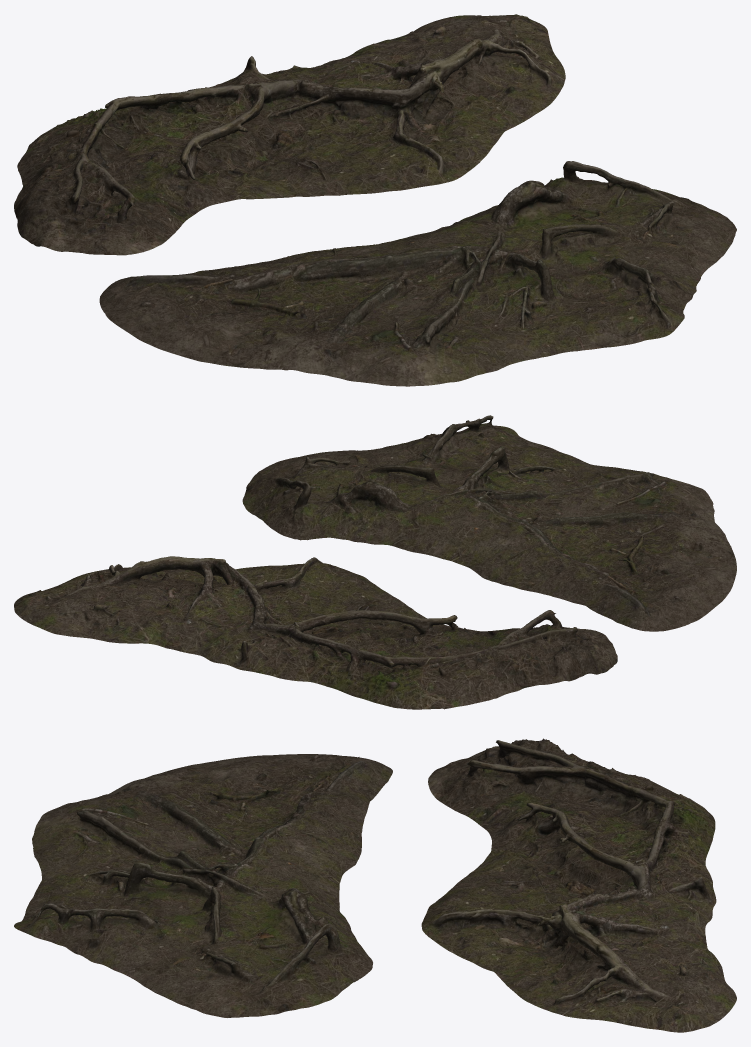
The model's file is pine_roots.gltf.
The picture shows the model from 3 angles, top to bottom: view 1: azimuth 30°, elevation 25°; view 2: azimuth 150°, elevation 25°; view 3: azimuth 270°, elevation 25°; orthographic projection. The views are drawn at different scales.
Parts seen in each view (by area): view 1: pine_roots_b, pine_roots_a; view 2: pine_roots_b, pine_roots_a; view 3: pine_roots_b, pine_roots_a.
Part boxes in pixels (left/top/right/bottom): pine_roots_b: left=99, top=161, right=736, bottom=386; pine_roots_a: left=14, top=14, right=565, bottom=255; pine_roots_b: left=242, top=415, right=736, bottom=631; pine_roots_a: left=14, top=556, right=617, bottom=709; pine_roots_b: left=14, top=754, right=392, bottom=1017; pine_roots_a: left=421, top=738, right=736, bottom=1032.
Size of the model in its own units: 1.77 by 0.1548 by 1.89.
2 materials, 2 textured.
